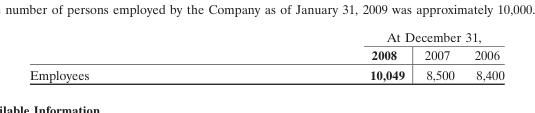table: (29, 28, 503, 82)
table column: (29, 28, 228, 82), (228, 28, 413, 82), (413, 28, 463, 82), (463, 28, 503, 82)
table column header: (29, 28, 503, 64)
table row: (29, 45, 503, 64), (29, 64, 503, 82), (29, 28, 503, 45)
table spanning cell: (228, 28, 503, 45)
